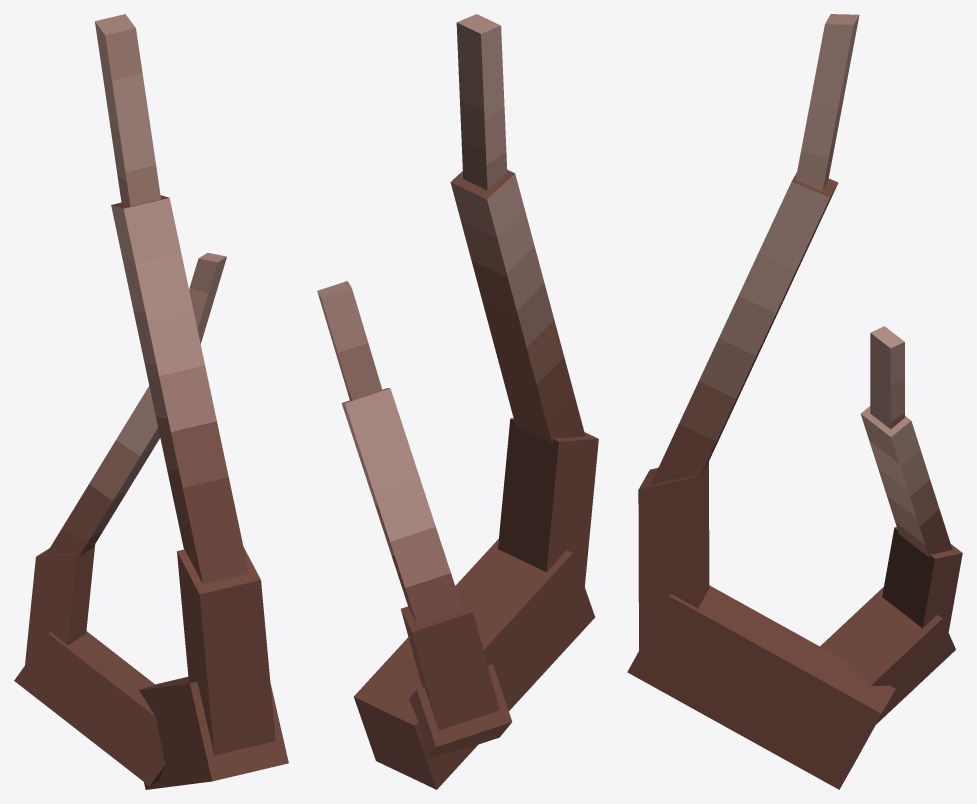
Rendered from root attack.fbx.
3 renders of one model, left to right at view 1: azimuth 30°, elevation 25°; view 2: azimuth 150°, elevation 25°; view 3: azimuth 270°, elevation 25°, orthographic. The views are drawn at different scales.
Parts seen in each view (by area): view 1: mesh, mesh_1; view 2: mesh, mesh_1; view 3: mesh, mesh_1.
Part boxes in pixels (x1,y1,x2,y2): mesh: [95, 14, 288, 789]; mesh_1: [14, 252, 226, 786]; mesh: [354, 14, 598, 789]; mesh_1: [317, 281, 512, 757]; mesh: [627, 14, 895, 789]; mesh_1: [820, 326, 962, 724].
Size of the model in its own units: 27.23 by 99 by 41.2.
1 material, 1 textured.
